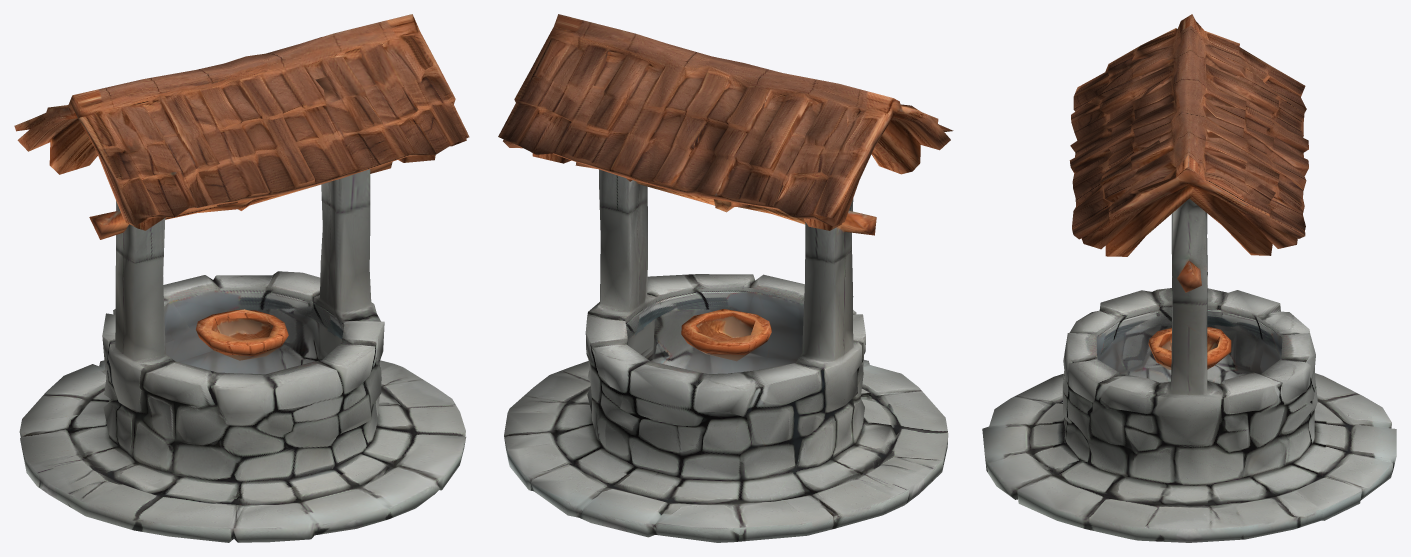
Rendered from well.glb.
3 renders of one model, left to right at view 1: azimuth 30°, elevation 25°; view 2: azimuth 150°, elevation 25°; view 3: azimuth 270°, elevation 25°, orthographic. The views are drawn at different scales.
Parts seen in each view (by area): view 1: Mesh_0.001; view 2: Mesh_0.001; view 3: Mesh_0.001.
Part boxes in pixels (x1=…): Mesh_0.001: x1=14, y1=14, x2=469, y2=542; Mesh_0.001: x1=498, y1=14, x2=953, y2=542; Mesh_0.001: x1=982, y1=14, x2=1396, y2=542.
Bounding box in the file's own units: 1.23 × 1.2 × 1.22.
1 material, 1 textured.
